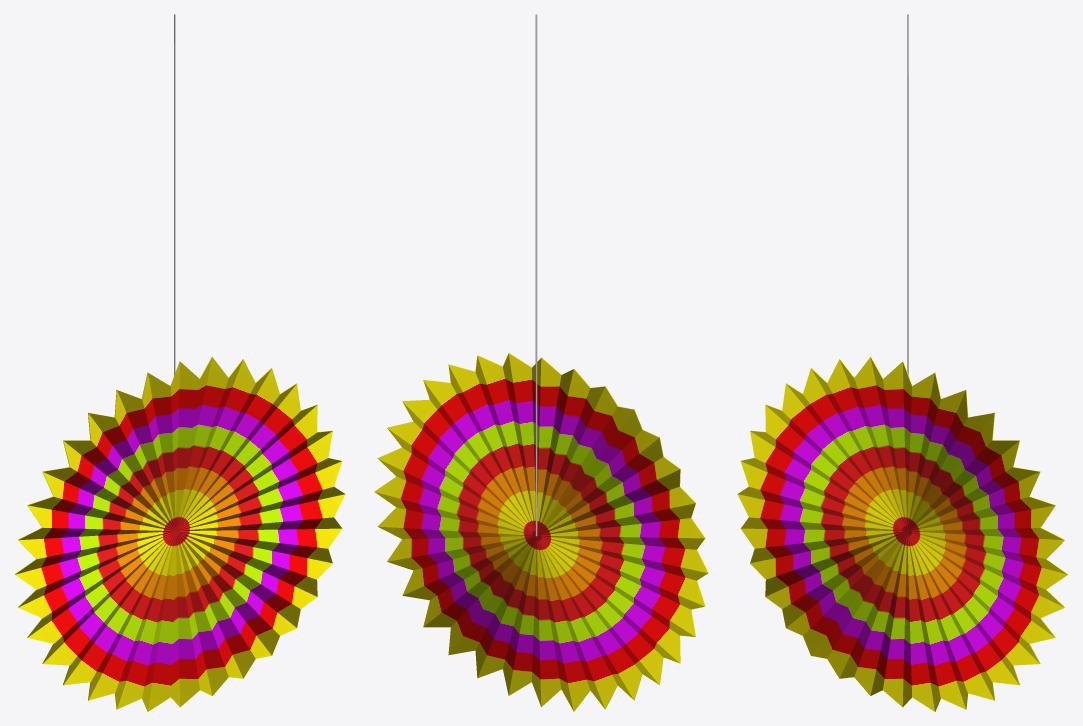
The model's file is PartyHangings01B_2.FBX.
The picture shows the model from 3 angles, left to right: view 1: azimuth 30°, elevation 25°; view 2: azimuth 150°, elevation 25°; view 3: azimuth 330°, elevation 25°; orthographic projection.
Visible parts, largest first — view 1: PartyHangings01B_2; view 2: PartyHangings01B_2; view 3: PartyHangings01B_2.
Part boxes in pixels (bbox=[...]): PartyHangings01B_2: bbox=[15, 14, 345, 711]; PartyHangings01B_2: bbox=[374, 14, 708, 711]; PartyHangings01B_2: bbox=[737, 14, 1067, 711].
Size of what is drawn, in the model's own units: 0.4575 by 0.9111 by 0.0263.
